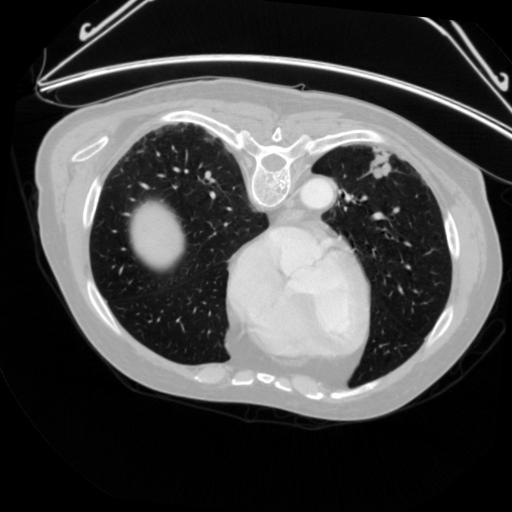nodule: (368, 152, 395, 179)
